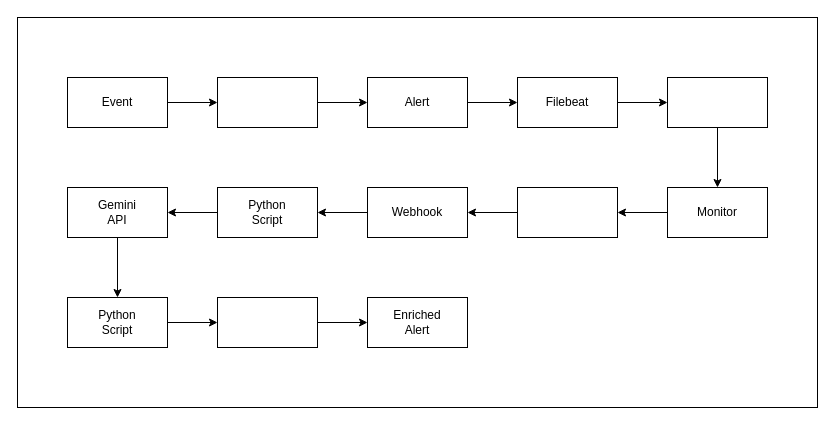
The diagram is 835 pixels wide and 425 high, and some of its shapes have lost their labels. The shapes that lost their labels are listed below. From the top down, each one's box as (x1, y1, x2, y2) in pixels, then its label:
(216, 76, 318, 128): Wazuh Manager
(666, 76, 768, 128): Indexer
(516, 186, 618, 238): Notification
(216, 296, 318, 348): Reindex
